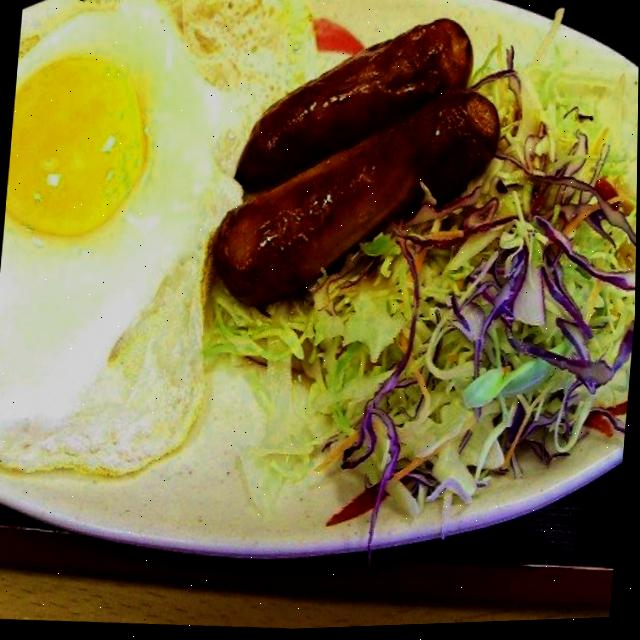鸡蛋料理: (34, 0, 271, 462)
